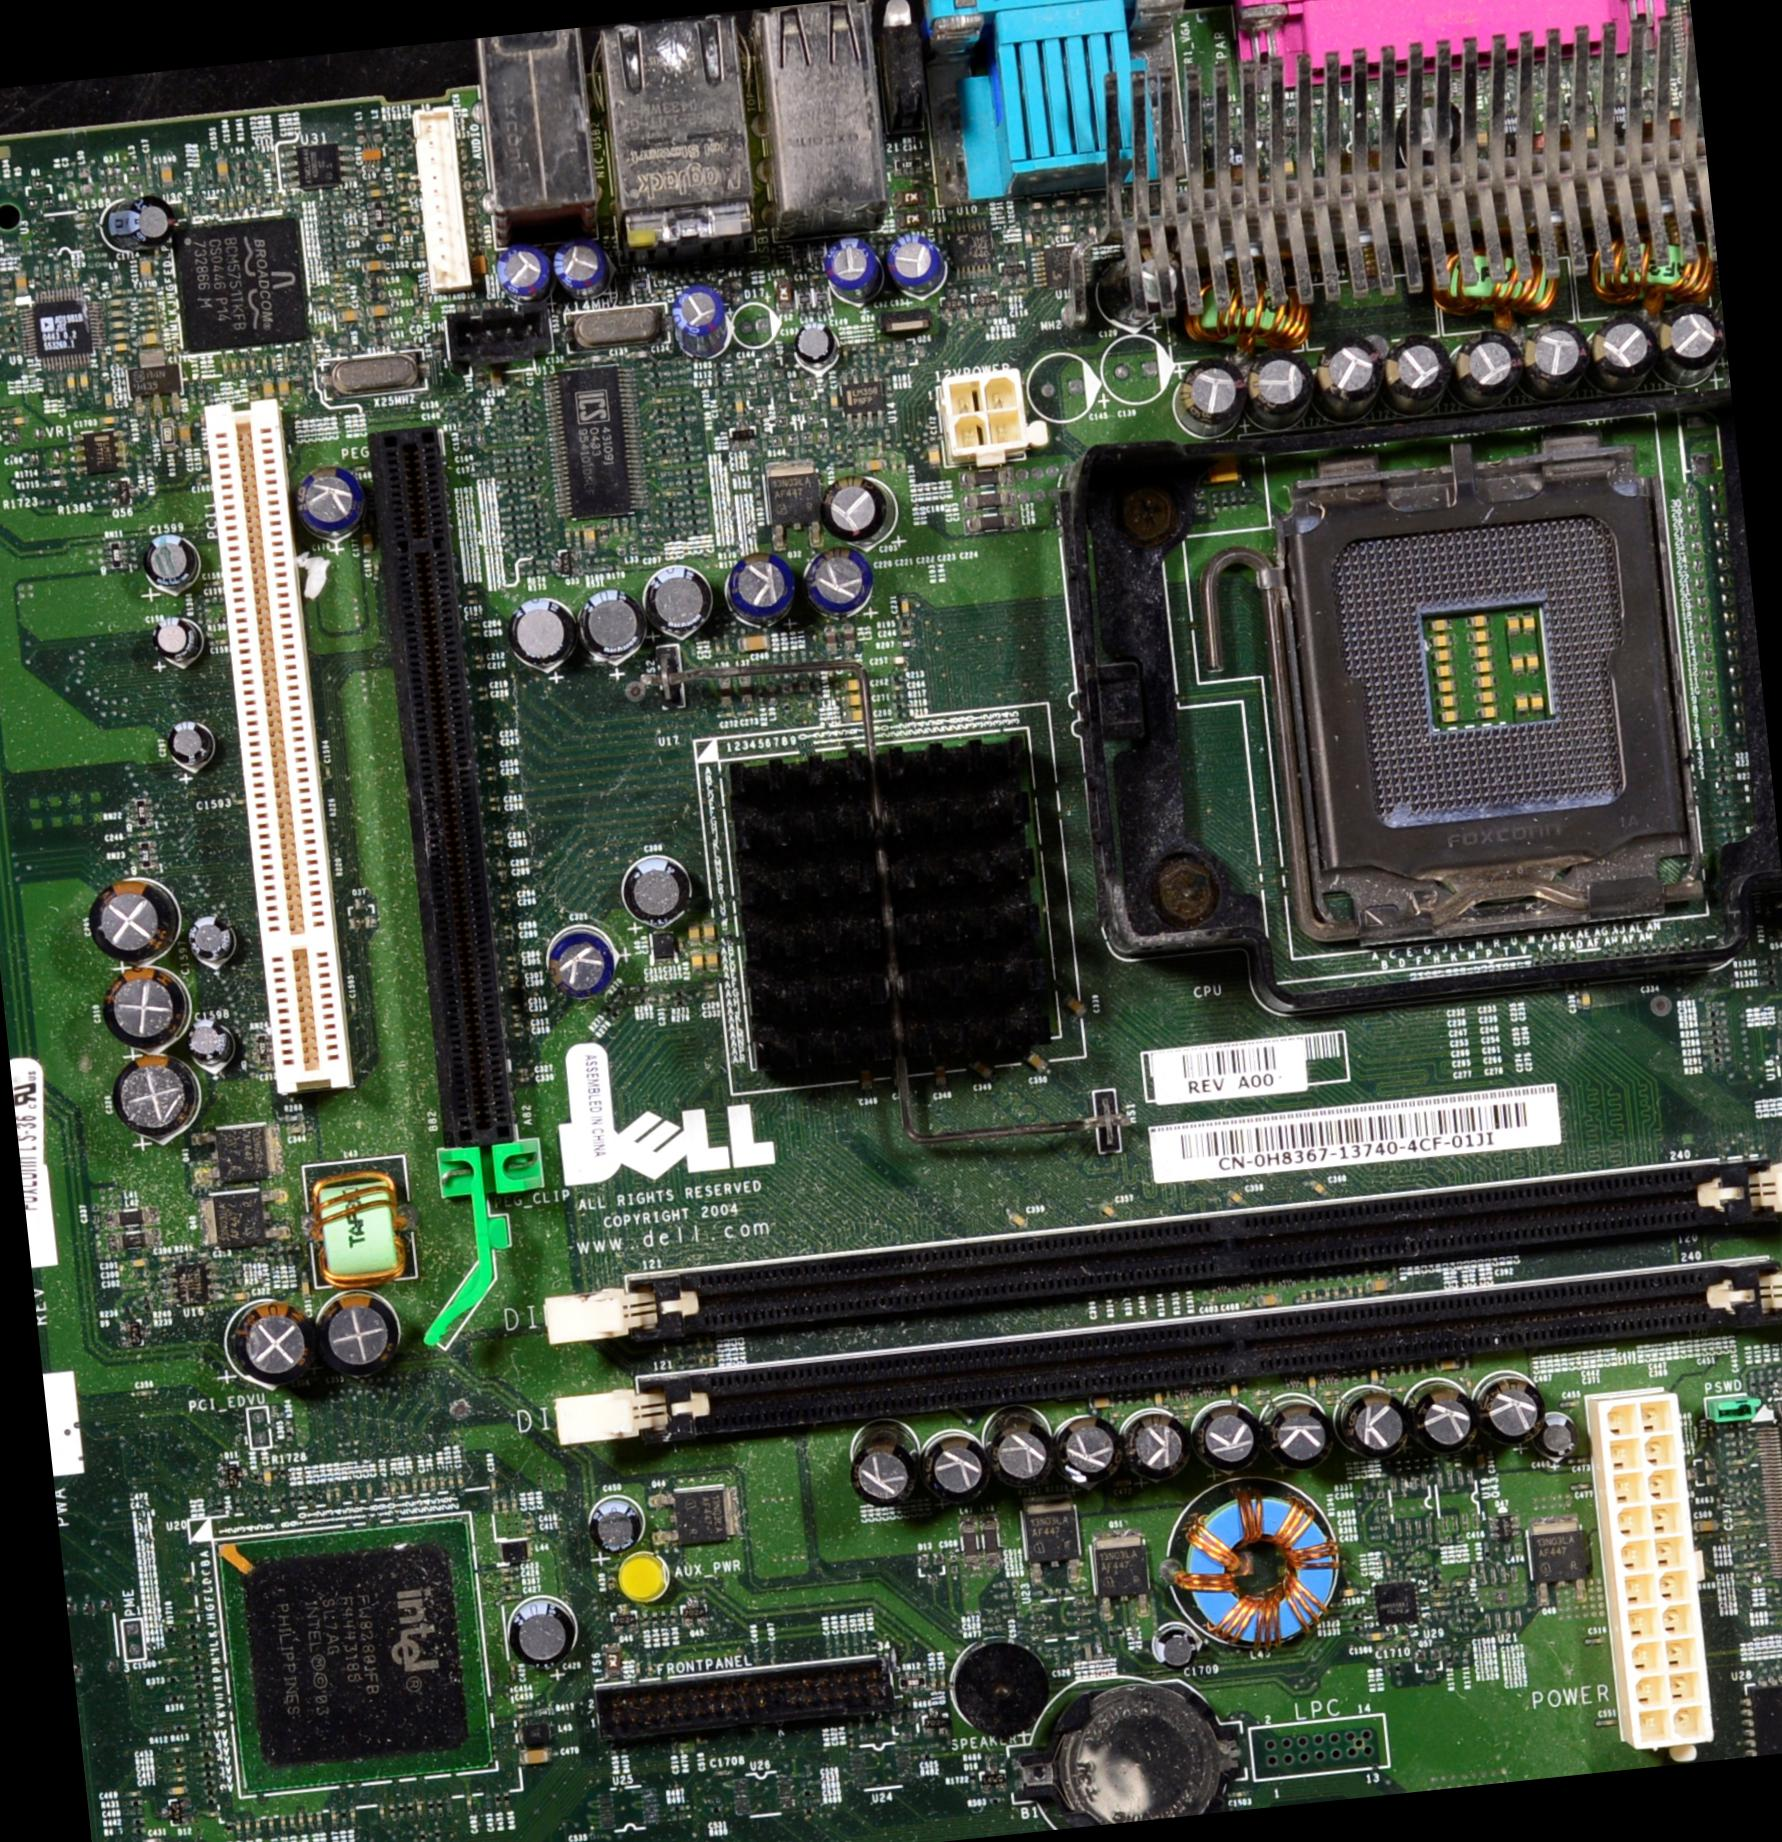Capacitor Jumper: (74, 865, 183, 966), (227, 1289, 317, 1385), (105, 1046, 196, 1138), (100, 964, 192, 1054), (314, 1296, 408, 1372), (502, 586, 581, 672), (294, 452, 369, 540), (504, 1596, 587, 1670), (1239, 346, 1323, 419), (1590, 302, 1666, 382), (838, 1434, 922, 1506), (984, 1416, 1061, 1494), (1518, 313, 1594, 392), (717, 550, 800, 622), (574, 584, 645, 666), (1468, 1366, 1538, 1447), (1655, 294, 1725, 374), (621, 854, 694, 930), (1068, 1410, 1136, 1490), (648, 555, 716, 635), (1406, 1379, 1483, 1449), (919, 1428, 991, 1500), (544, 924, 618, 994), (1266, 1398, 1336, 1472), (806, 538, 872, 613), (1195, 1402, 1263, 1473), (1311, 334, 1382, 401), (820, 472, 887, 543), (809, 225, 874, 297), (1382, 331, 1452, 397), (659, 275, 729, 340), (118, 184, 183, 253), (1339, 1394, 1402, 1463), (1185, 351, 1247, 421), (1134, 1403, 1192, 1472), (881, 230, 945, 292), (186, 901, 242, 971), (589, 1501, 653, 1560), (1459, 334, 1521, 394), (549, 236, 608, 292), (144, 529, 198, 590), (164, 712, 217, 772), (494, 242, 544, 303), (1146, 1620, 1206, 1670), (145, 610, 199, 660), (186, 1019, 236, 1066), (792, 319, 840, 364), (1544, 1408, 1580, 1462), (177, 420, 198, 450), (11, 270, 30, 299), (136, 256, 156, 282), (364, 302, 391, 320), (520, 1749, 549, 1765), (897, 592, 912, 622), (332, 308, 364, 322), (214, 156, 231, 182), (1226, 1188, 1250, 1206), (1006, 1208, 1026, 1229), (1566, 1480, 1594, 1494), (358, 148, 382, 164), (1366, 1276, 1389, 1292), (123, 1257, 150, 1270), (1256, 1292, 1281, 1306), (126, 826, 151, 840), (462, 1792, 476, 1816), (303, 1810, 315, 1838), (842, 692, 863, 708), (887, 652, 910, 666), (1310, 1178, 1326, 1198), (158, 163, 172, 185), (860, 1628, 870, 1658), (846, 707, 863, 724), (78, 370, 90, 394), (935, 1064, 948, 1086), (1360, 1629, 1386, 1640), (314, 1811, 326, 1834), (278, 376, 290, 399), (510, 998, 528, 1013), (366, 186, 385, 200), (823, 1632, 834, 1656), (842, 1632, 853, 1656), (1338, 1587, 1360, 1599), (167, 1774, 189, 1786), (162, 1783, 186, 1794), (122, 1808, 144, 1820), (67, 370, 79, 392), (466, 651, 490, 662), (360, 259, 383, 270), (111, 342, 132, 354), (120, 1790, 145, 1800), (124, 1269, 148, 1279), (262, 1466, 274, 1486), (265, 380, 277, 400), (0, 403, 17, 416), (329, 1808, 339, 1830), (266, 1816, 276, 1838), (514, 1062, 532, 1074), (136, 1279, 154, 1291), (508, 1026, 525, 1038), (398, 1478, 408, 1498), (364, 1484, 374, 1504), (376, 232, 396, 242), (454, 1473, 466, 1489), (734, 395, 744, 414), (834, 1634, 842, 1657), (1104, 1206, 1116, 1221), (334, 1486, 344, 1504), (236, 194, 245, 214), (280, 1810, 289, 1830), (226, 196, 235, 216), (348, 1808, 357, 1828), (480, 764, 498, 774), (162, 1744, 184, 1752), (6, 418, 28, 426), (464, 621, 486, 629), (108, 322, 127, 331), (503, 969, 520, 979), (477, 732, 494, 742), (0, 432, 12, 446), (846, 678, 858, 692), (244, 1820, 253, 1838), (472, 691, 490, 700), (482, 773, 498, 783), (513, 1073, 530, 1082), (470, 664, 488, 672), (851, 1630, 857, 1652), (479, 740, 492, 750), (488, 1476, 496, 1492), (296, 1814, 304, 1830), (472, 684, 488, 692), (504, 953, 519, 961), (466, 630, 481, 638), (255, 1818, 262, 1834), (489, 832, 503, 840), (501, 922, 512, 932), (110, 332, 125, 339), (510, 1022, 524, 1029), (498, 1569, 514, 1575), (1385, 1555, 1391, 1570), (499, 1576, 512, 1582), (485, 796, 497, 802), (439, 1478, 444, 1492), (234, 1824, 239, 1835)
IC: (242, 1542, 471, 1766), (177, 219, 316, 357), (559, 364, 632, 520), (1076, 1533, 1158, 1603), (1017, 1504, 1085, 1569), (1530, 1520, 1598, 1582), (671, 1482, 727, 1543), (766, 468, 822, 524), (215, 1123, 268, 1182), (35, 306, 88, 355), (215, 1194, 264, 1244), (296, 140, 341, 186), (126, 363, 176, 402), (945, 227, 993, 267), (838, 378, 884, 413), (80, 430, 116, 474)
Resistor Jumper: (966, 490, 1007, 509), (970, 514, 1007, 532), (678, 1602, 710, 1622), (965, 470, 1000, 486), (728, 426, 756, 444), (423, 1796, 440, 1824), (1756, 1365, 1770, 1398), (610, 1612, 638, 1628), (980, 1770, 1008, 1786), (893, 156, 923, 170), (968, 294, 998, 308), (899, 1675, 930, 1688), (138, 842, 154, 866), (255, 1036, 268, 1065), (1000, 261, 1025, 276), (109, 544, 124, 566), (123, 1814, 146, 1828), (491, 1790, 505, 1812), (1512, 1608, 1527, 1628), (44, 262, 54, 291), (669, 1812, 688, 1826), (286, 1486, 298, 1508), (136, 800, 147, 824), (274, 1244, 287, 1264), (943, 302, 969, 312), (285, 1419, 296, 1442), (1767, 1366, 1776, 1394), (125, 1822, 146, 1834), (710, 1804, 728, 1818), (1045, 222, 1057, 243), (494, 454, 515, 466), (322, 229, 344, 240), (302, 1487, 314, 1507), (432, 1798, 444, 1818), (339, 1806, 349, 1830), (1032, 226, 1044, 246), (520, 460, 540, 472), (202, 1794, 219, 1808), (1750, 1368, 1758, 1396), (204, 196, 218, 212), (890, 672, 904, 688), (181, 1642, 203, 1652), (395, 1800, 406, 1820), (387, 1802, 398, 1822), (405, 1800, 416, 1820), (366, 320, 388, 330), (607, 1008, 625, 1020), (232, 160, 250, 172), (196, 1760, 214, 1772), (48, 464, 63, 478), (252, 1248, 265, 1264), (296, 1489, 308, 1506), (198, 1776, 215, 1788), (432, 1824, 444, 1841), (1, 322, 18, 334), (188, 1701, 210, 1710), (499, 1582, 518, 1592), (169, 1722, 188, 1732), (1483, 1611, 1492, 1632), (669, 988, 686, 999), (667, 1802, 684, 1813), (665, 998, 688, 1006), (893, 680, 906, 694), (184, 1620, 199, 1632), (186, 1654, 204, 1664), (186, 1672, 204, 1682), (1493, 1610, 1502, 1630), (502, 1792, 512, 1810), (122, 1799, 144, 1807), (369, 336, 388, 345), (1354, 1490, 1364, 1507), (193, 1712, 210, 1722), (513, 395, 530, 405), (892, 702, 909, 712), (800, 1785, 815, 1796), (1077, 220, 1086, 238), (386, 147, 396, 163), (1443, 1650, 1453, 1666), (320, 198, 336, 208), (600, 1002, 613, 1014), (659, 1608, 668, 1625), (190, 1692, 207, 1701), (186, 1664, 205, 1672), (284, 1246, 293, 1262), (128, 163, 140, 175), (250, 1494, 259, 1510), (183, 1634, 201, 1642), (2, 336, 16, 346), (200, 1788, 217, 1796), (892, 693, 909, 701), (518, 426, 533, 435), (642, 1612, 650, 1628), (324, 218, 340, 226), (326, 246, 342, 254), (498, 466, 514, 474), (1728, 1467, 1746, 1474), (403, 126, 413, 138), (653, 1611, 660, 1628), (265, 1246, 272, 1262), (522, 452, 536, 460), (261, 193, 271, 204), (1738, 1543, 1756, 1549), (1770, 1588, 1778, 1601), (893, 712, 910, 718), (382, 1480, 389, 1494), (668, 1609, 675, 1623), (1734, 1450, 1750, 1456), (280, 1464, 286, 1478), (262, 1494, 268, 1508), (322, 210, 336, 216), (328, 255, 340, 262), (48, 499, 62, 505), (170, 1694, 180, 1702), (189, 204, 197, 214), (421, 1831, 429, 1841), (140, 1304, 153, 1310), (330, 266, 342, 272), (407, 145, 414, 155), (251, 1472, 258, 1482), (520, 416, 531, 422), (235, 1499, 240, 1512), (202, 1750, 210, 1758), (386, 128, 392, 138), (196, 1722, 206, 1728), (327, 239, 339, 244), (1505, 1610, 1509, 1624), (519, 408, 528, 414), (397, 146, 401, 158), (208, 176, 212, 188), (140, 1296, 151, 1300), (168, 1678, 177, 1682)
